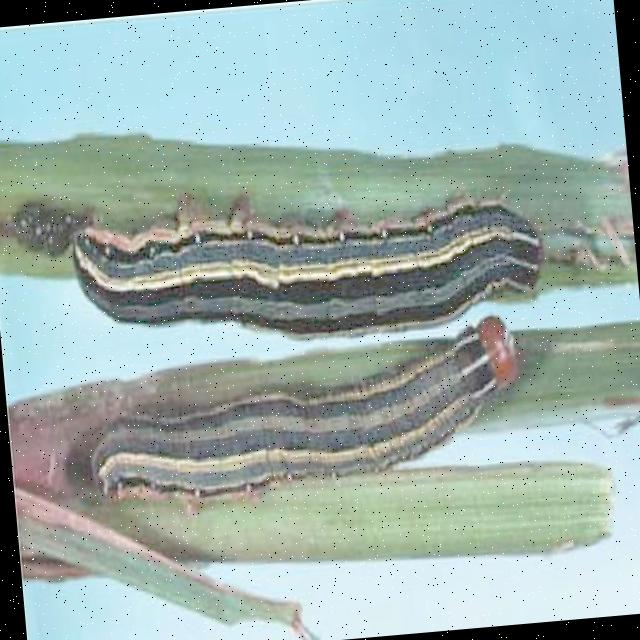worm: (67, 166, 552, 364), (81, 315, 532, 522)
